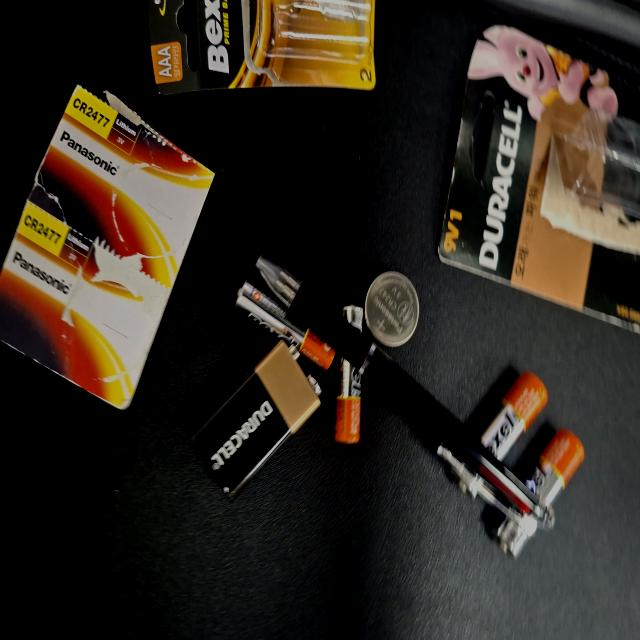9V: (107, 256, 225, 428)
AA: (101, 601, 201, 640)
AAA: (202, 312, 272, 448), (146, 444, 251, 486)
COIN: (220, 485, 276, 559)
